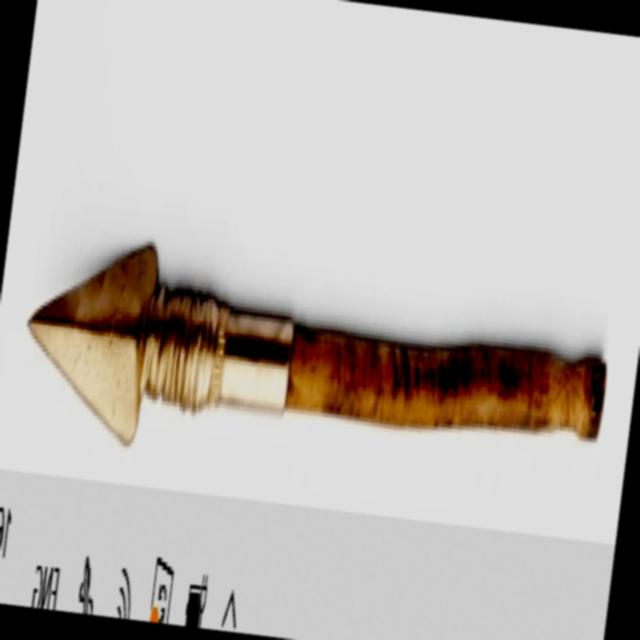spear: (8, 174, 630, 532)
